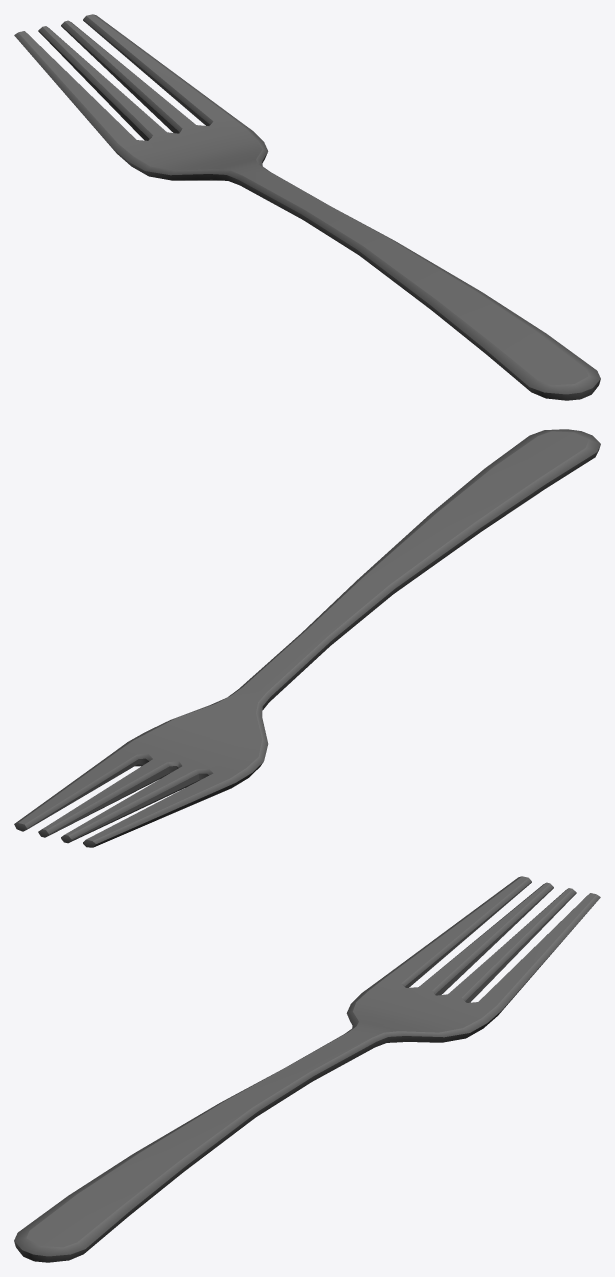
Rendered from fork.fbx.
3 renders of one model, top to bottom at view 1: azimuth 30°, elevation 25°; view 2: azimuth 150°, elevation 25°; view 3: azimuth 330°, elevation 25°, orthographic.
Visible parts, largest first — view 1: fork; view 2: fork; view 3: fork.
Boxes of the visible parts, box(x1,y1,x2,y2) form: fork: box(14, 14, 600, 400); fork: box(14, 429, 600, 847); fork: box(14, 876, 600, 1262).
Size of the model in its own units: 0.0347 by 0.015 by 0.2529.
